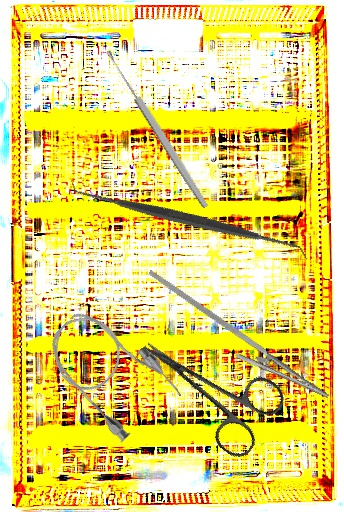Cannula: (34, 293, 188, 449)
Iris Scissors: (123, 309, 291, 463)
Needle Holder: (128, 269, 342, 414)
Spatula Surgical: (69, 101, 309, 339)
Surgical Spoon: (104, 48, 210, 210)
